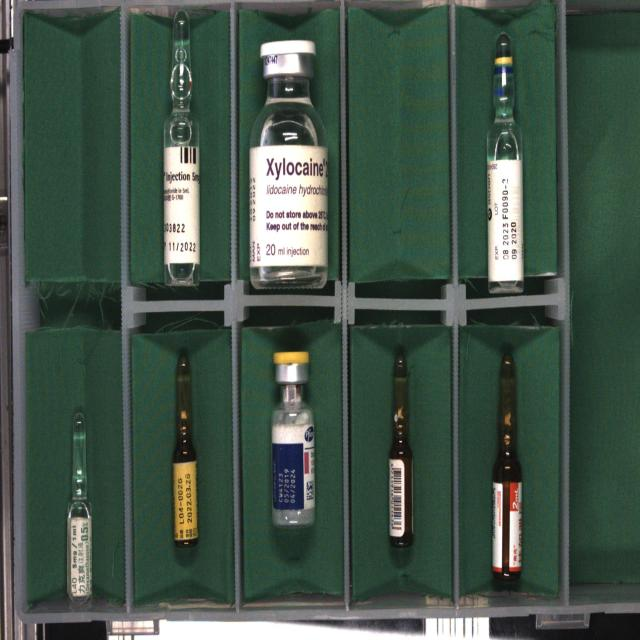Vials: (249, 40, 329, 289), (271, 351, 315, 527)
